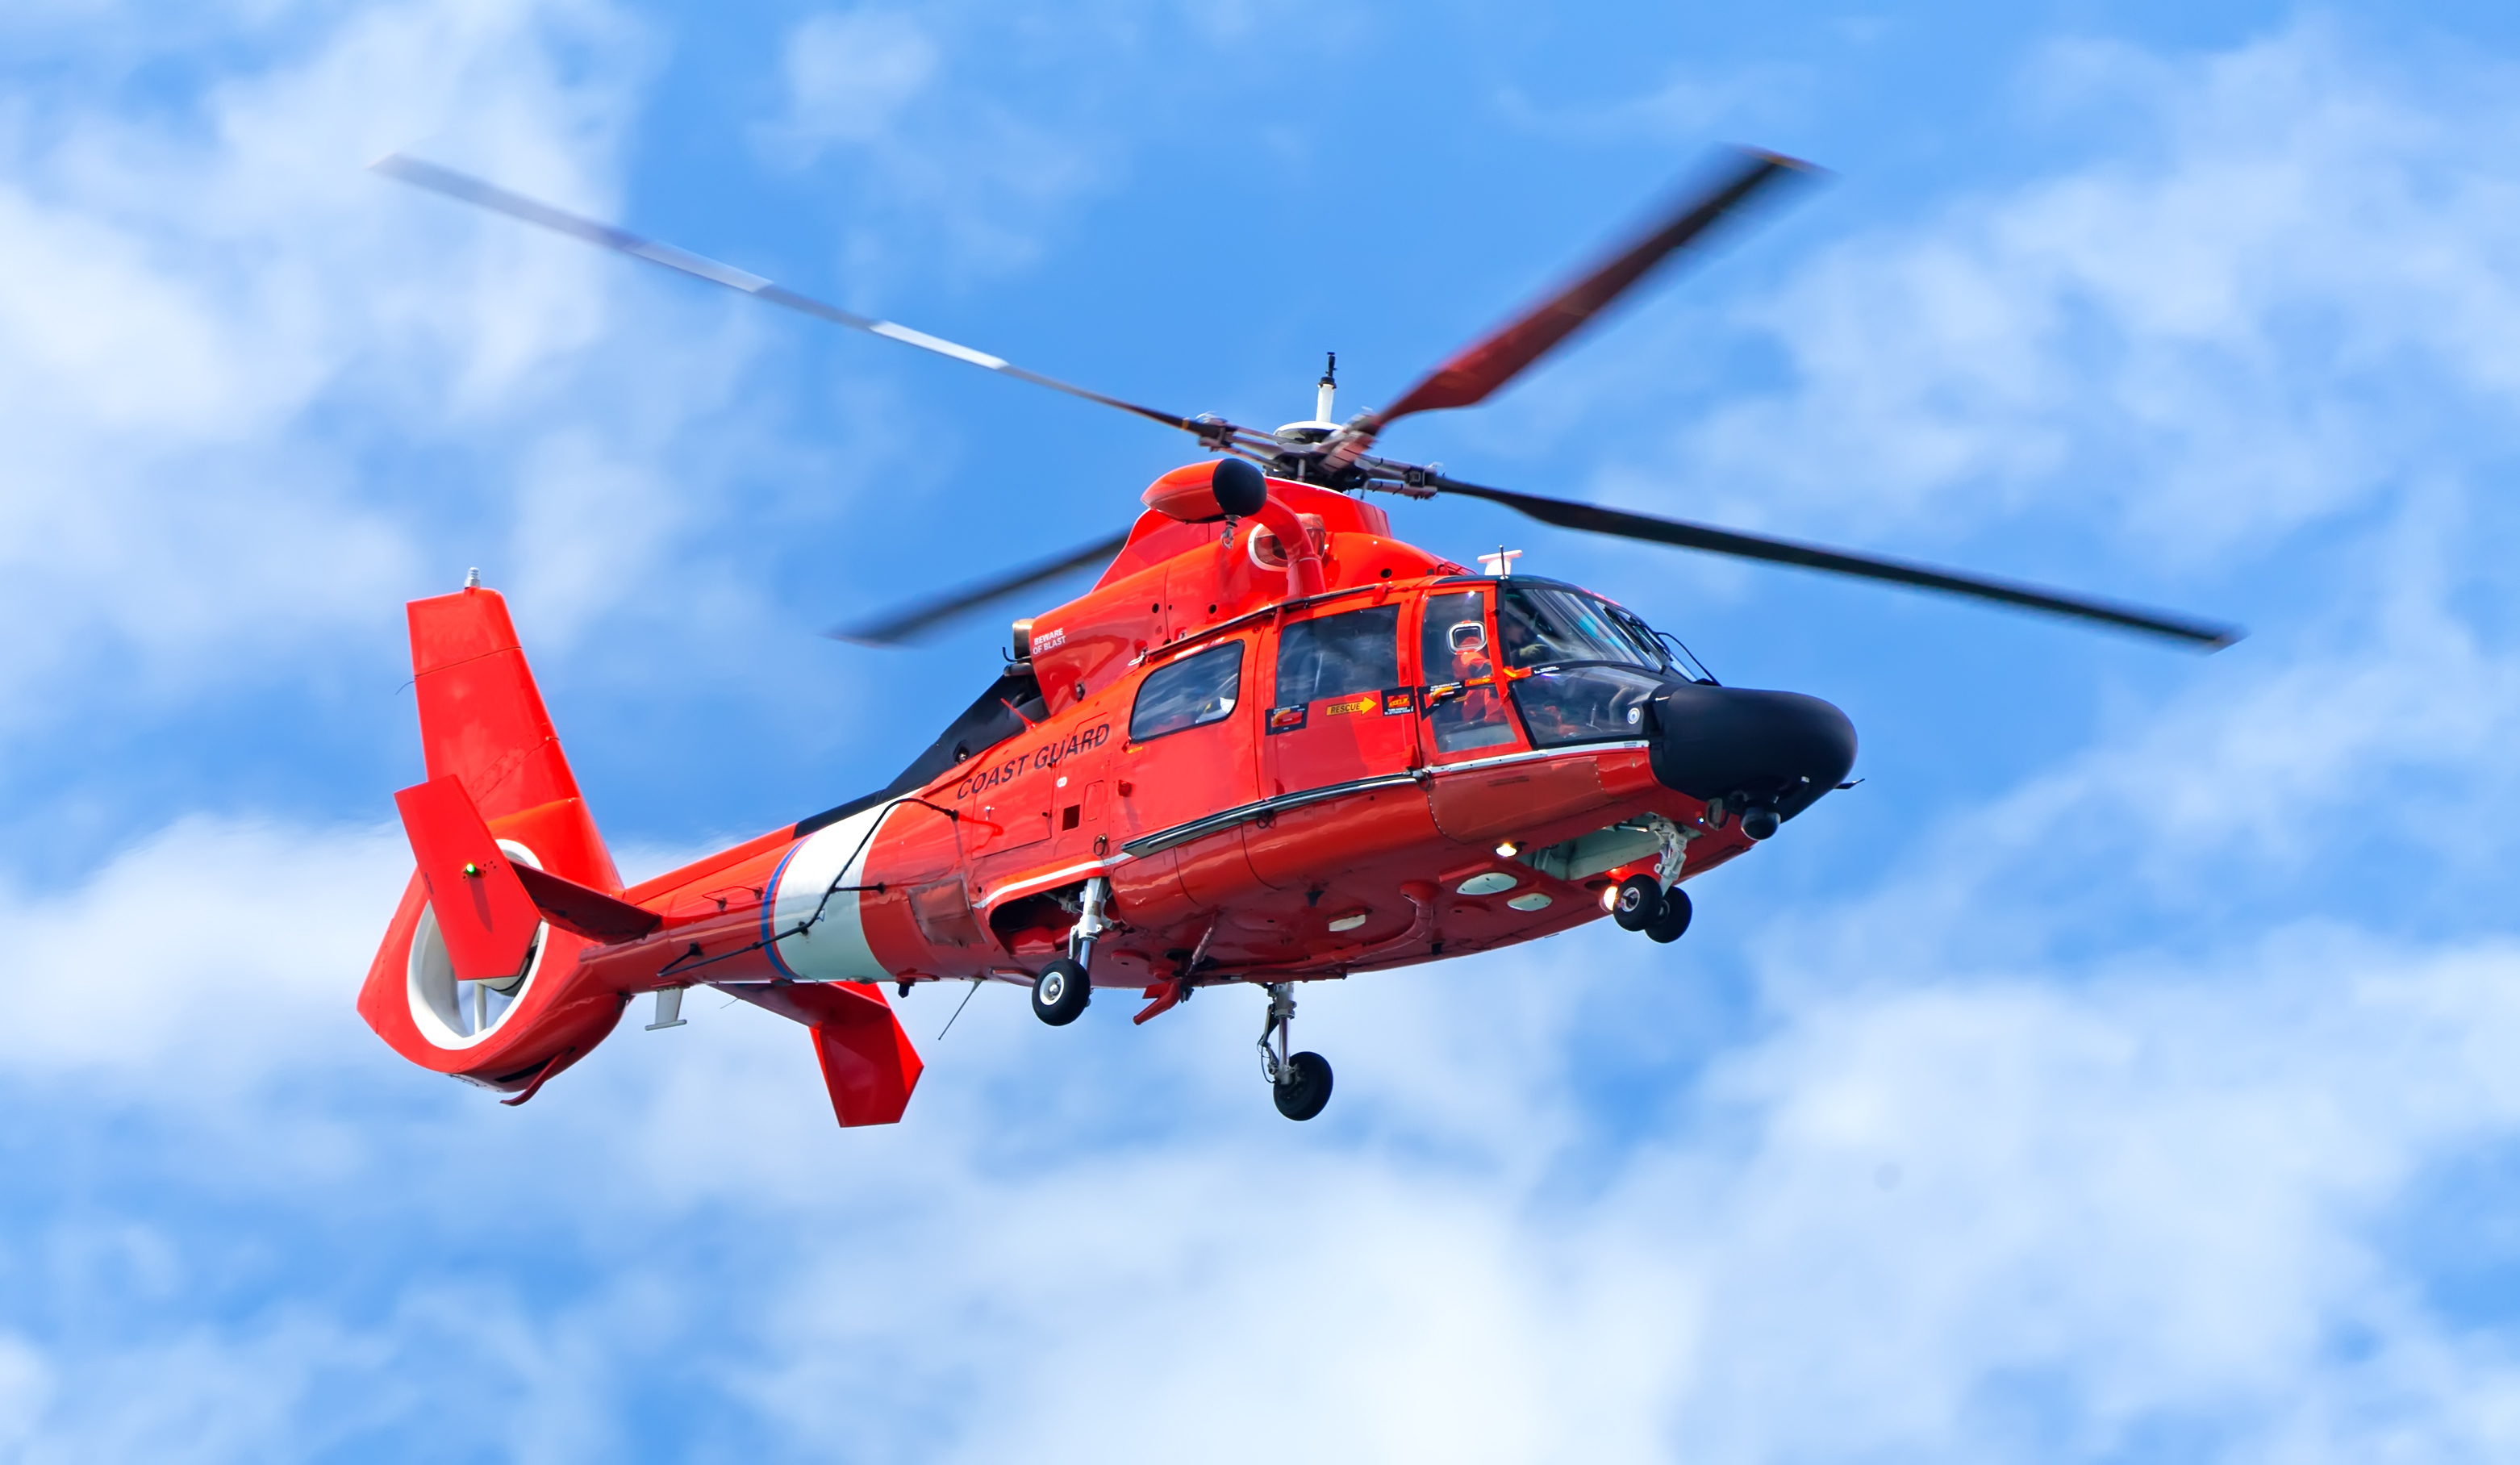Helicopter: (359, 124, 1887, 1158)
